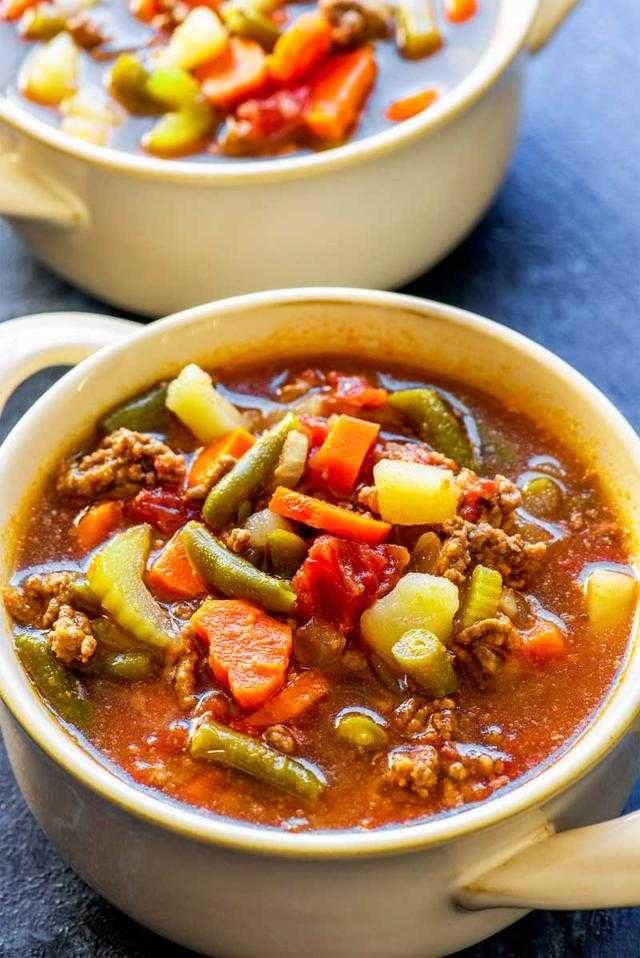soup: (3, 344, 621, 825)
